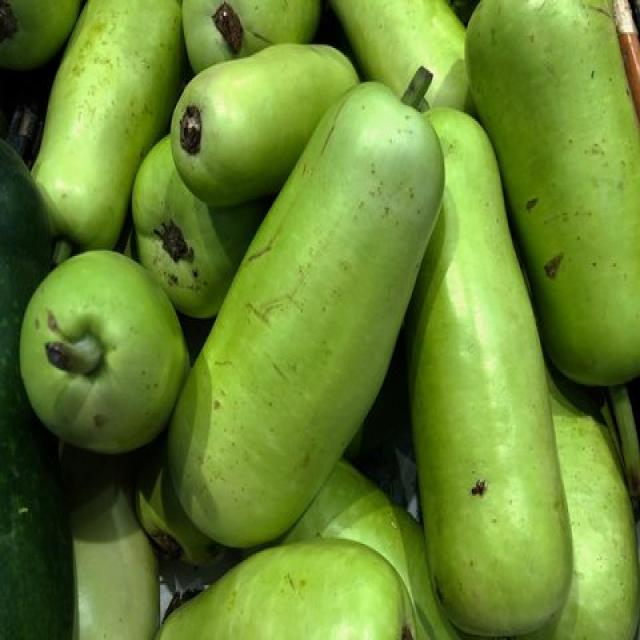Bottle Gourd: (166, 64, 446, 548), (389, 168, 588, 624), (475, 0, 640, 363), (24, 232, 158, 449), (55, 11, 148, 232)
Spinach: (0, 0, 639, 638)
